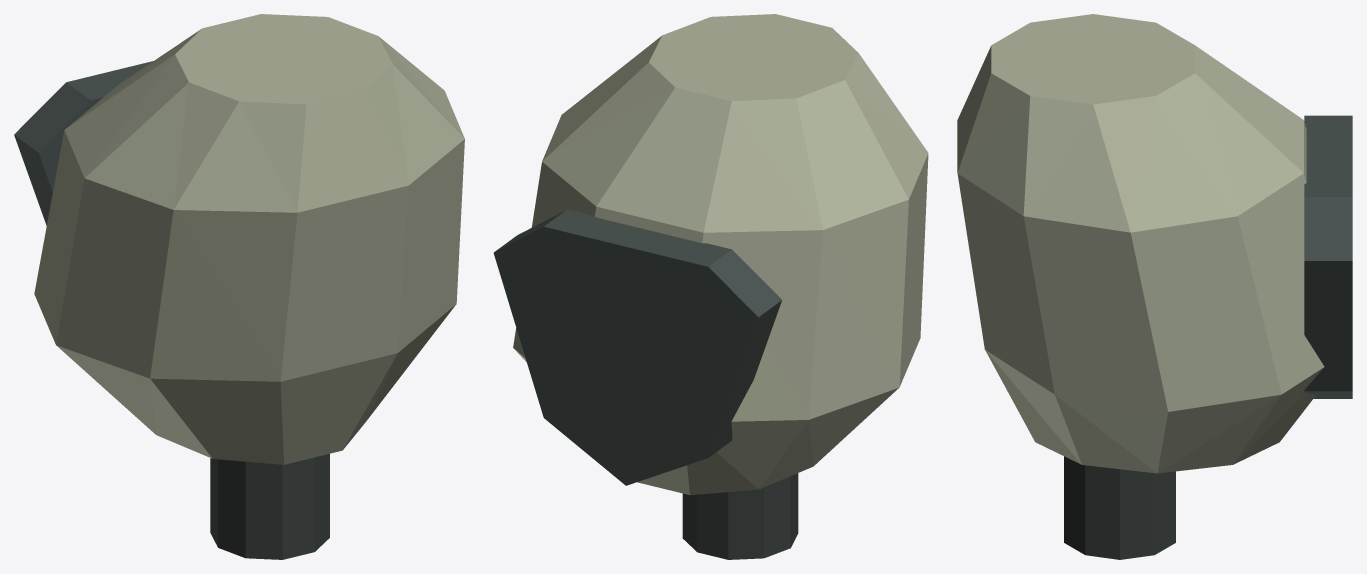
File: lancer_head.obj
3 views of the same model, side by side, from view 1: azimuth 30°, elevation 25°; view 2: azimuth 150°, elevation 25°; view 3: azimuth 270°, elevation 25° (orthographic). The views are drawn at different scales.
Visible parts, largest first — view 1: lancer_head; view 2: lancer_head; view 3: lancer_head.
Boxes of the visible parts, x1,y1,x2,y2 form: lancer_head: [14, 14, 464, 559]; lancer_head: [493, 14, 928, 559]; lancer_head: [957, 14, 1352, 559].
Size of the model in its own units: 0.4 by 0.49 by 0.3687.
